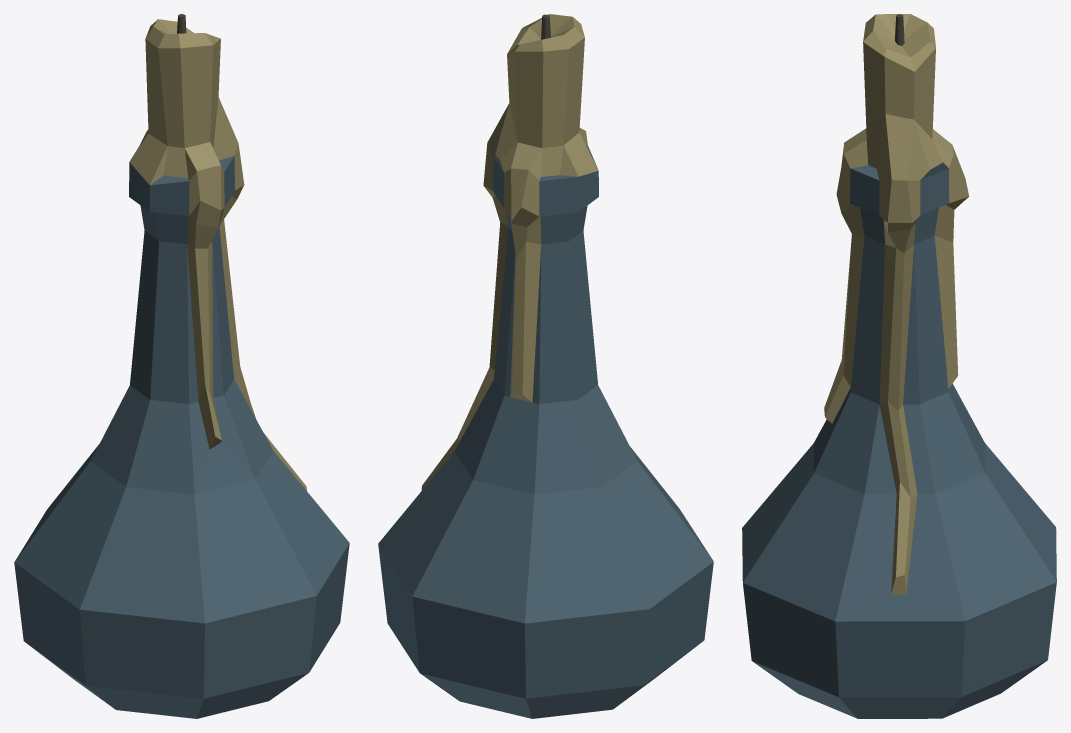
The model's file is CandleBottle_2.fbx.
The picture shows the model from 3 angles, left to right: view 1: azimuth 30°, elevation 25°; view 2: azimuth 150°, elevation 25°; view 3: azimuth 270°, elevation 25°; orthographic projection.
Parts seen in each view (by area): view 1: CandleBottle_2; view 2: CandleBottle_2; view 3: CandleBottle_2.
Part boxes in pixels (x1,y1,x2,y2): CandleBottle_2: [14, 14, 349, 718]; CandleBottle_2: [378, 14, 713, 718]; CandleBottle_2: [742, 14, 1056, 718].
Size of the model in its own units: 15.05 by 34.83 by 15.05.
